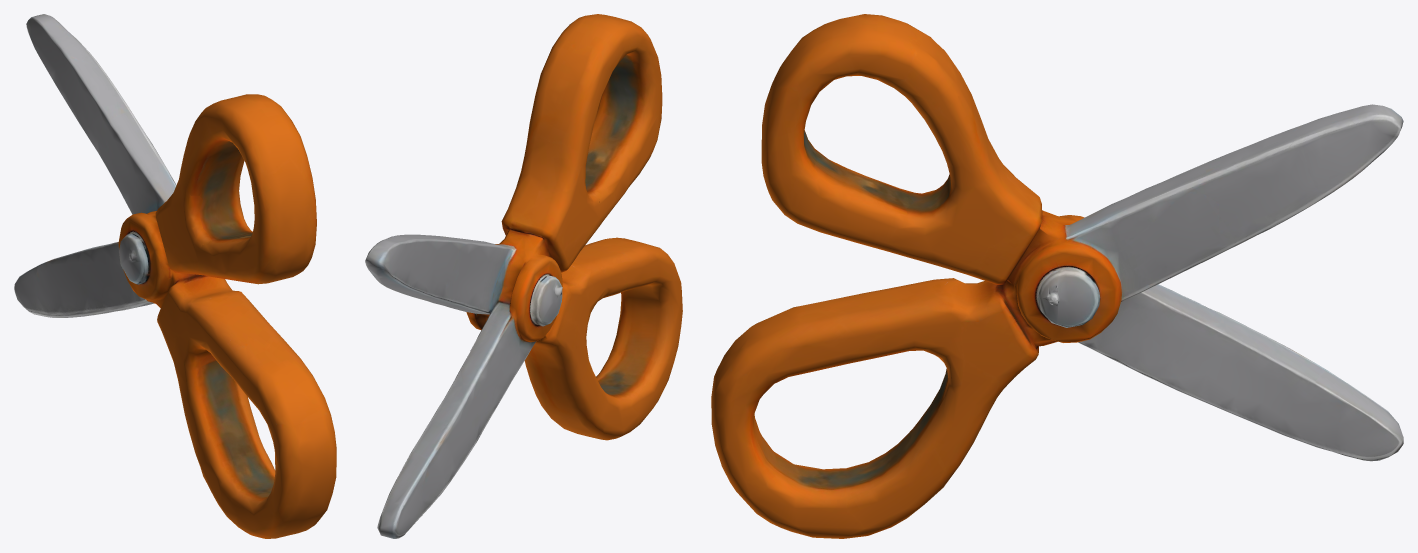
File: scissors.glb
3 renders of one model, left to right at view 1: azimuth 30°, elevation 25°; view 2: azimuth 150°, elevation 25°; view 3: azimuth 270°, elevation 25°, orthographic. The views are drawn at different scales.
Parts seen in each view (by area): view 1: tripo_node_f508f915-479d-4a9a-a0a6-66fadb6d85b7; view 2: tripo_node_f508f915-479d-4a9a-a0a6-66fadb6d85b7; view 3: tripo_node_f508f915-479d-4a9a-a0a6-66fadb6d85b7.
Boxes of the visible parts, box(x1,y1,x2,y2) form: tripo_node_f508f915-479d-4a9a-a0a6-66fadb6d85b7: box(14, 14, 336, 538); tripo_node_f508f915-479d-4a9a-a0a6-66fadb6d85b7: box(365, 14, 682, 538); tripo_node_f508f915-479d-4a9a-a0a6-66fadb6d85b7: box(711, 14, 1403, 538).
Size of the model in its own units: 0.1736 by 0.8098 by 1.
Materials: 1 (1 with a texture image).
